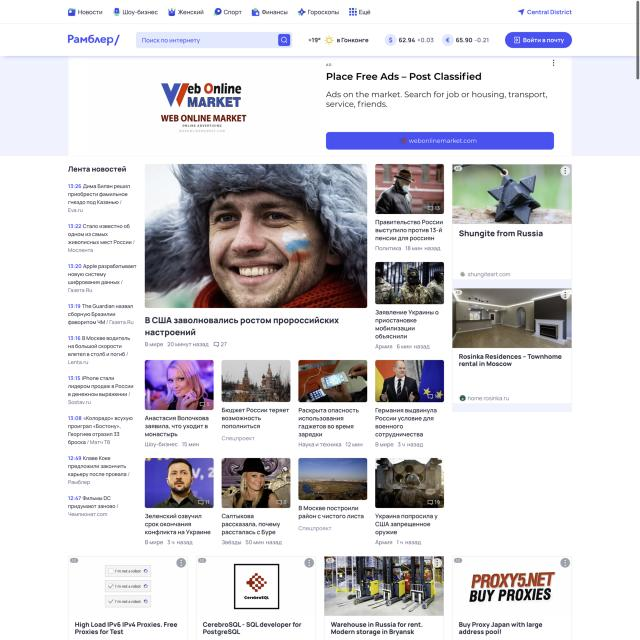CheckBox: (504, 32, 572, 48), (278, 34, 290, 46)
CheckedTextView: (136, 32, 292, 48)
ImageView: (67, 57, 572, 156), (453, 287, 573, 404), (453, 163, 571, 279)
QR code: (65, 180, 138, 519), (308, 33, 490, 48)
bag: (1, 0, 636, 56)
carousel: (512, 36, 521, 44)
copy: (144, 164, 368, 309), (374, 163, 444, 214), (144, 360, 214, 410), (221, 359, 291, 403), (375, 261, 444, 305), (298, 359, 367, 403), (375, 360, 444, 402)
date picker: (65, 29, 124, 49)
decoration: (63, 4, 374, 19)
footer: (142, 37, 200, 45)
